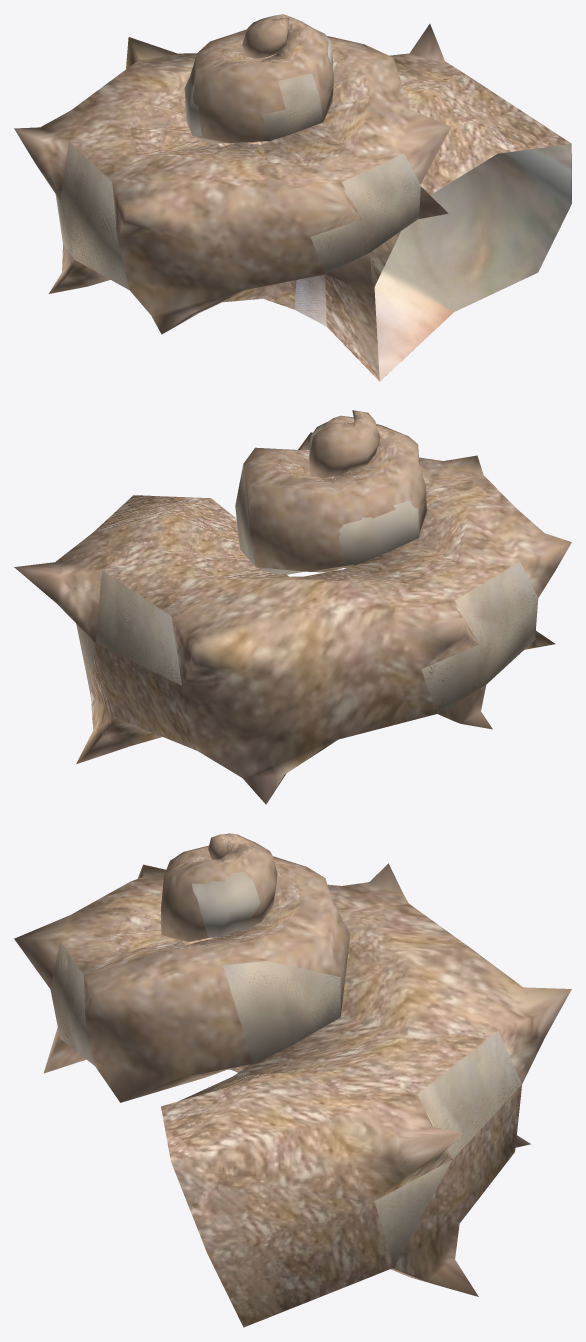
Rendered from TurbanShell.fbx.
The picture shows the model from 3 angles, top to bottom: view 1: azimuth 30°, elevation 25°; view 2: azimuth 150°, elevation 25°; view 3: azimuth 270°, elevation 25°; orthographic projection. The views are drawn at different scales.
Parts seen in each view (by area): view 1: Plane.002; view 2: Plane.002; view 3: Plane.002.
Boxes of the visible parts, x1=… form: Plane.002: x1=14, y1=14, x2=571, y2=381; Plane.002: x1=14, y1=410, x2=571, y2=804; Plane.002: x1=14, y1=833, x2=571, y2=1327.
Size of the model in its own units: 60.87 by 48.63 by 57.39.
